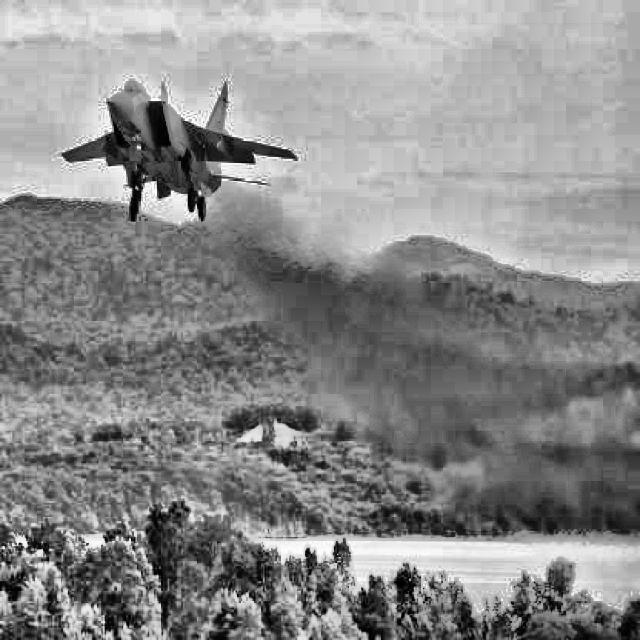Mig31: (59, 77, 298, 221)
